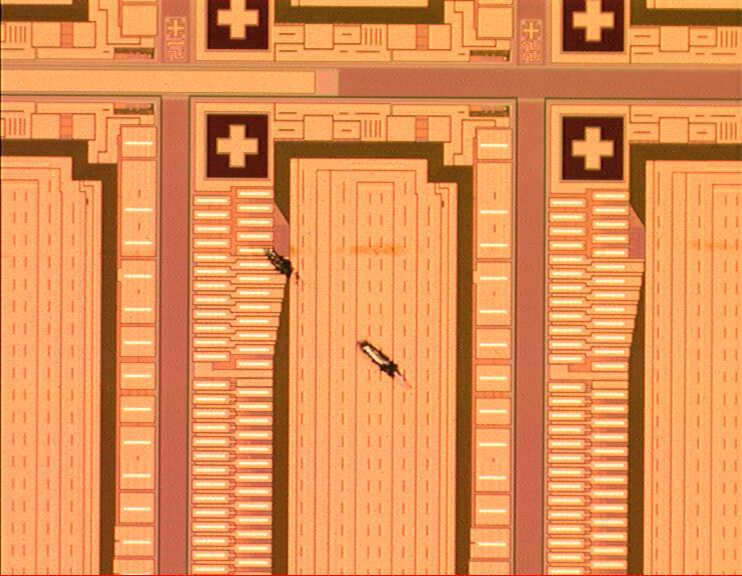SCRATCH: (1, 234, 742, 399)
